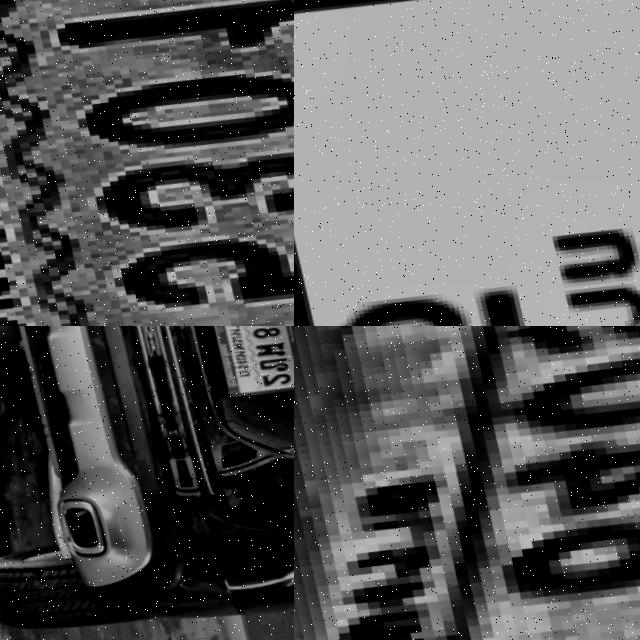license-plate: (294, 0, 640, 326), (294, 326, 640, 640), (0, 0, 294, 326), (193, 326, 294, 399)
